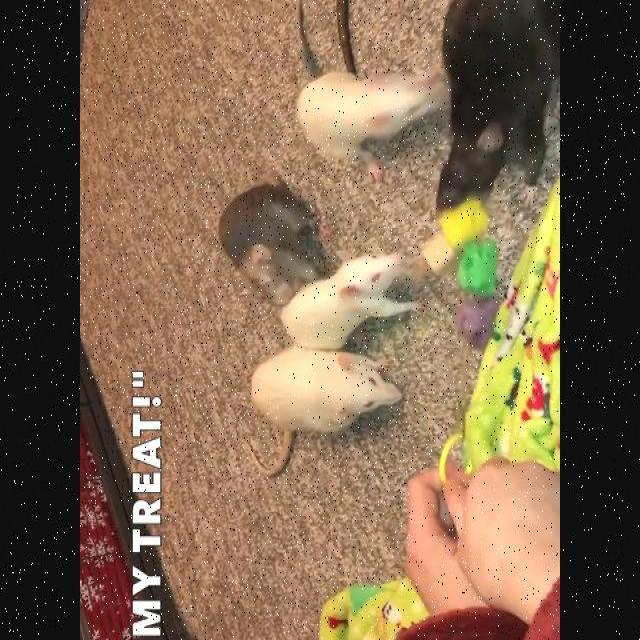rat: (432, 0, 560, 208), (298, 52, 452, 161), (284, 253, 426, 346), (214, 178, 320, 302), (250, 354, 399, 434)
